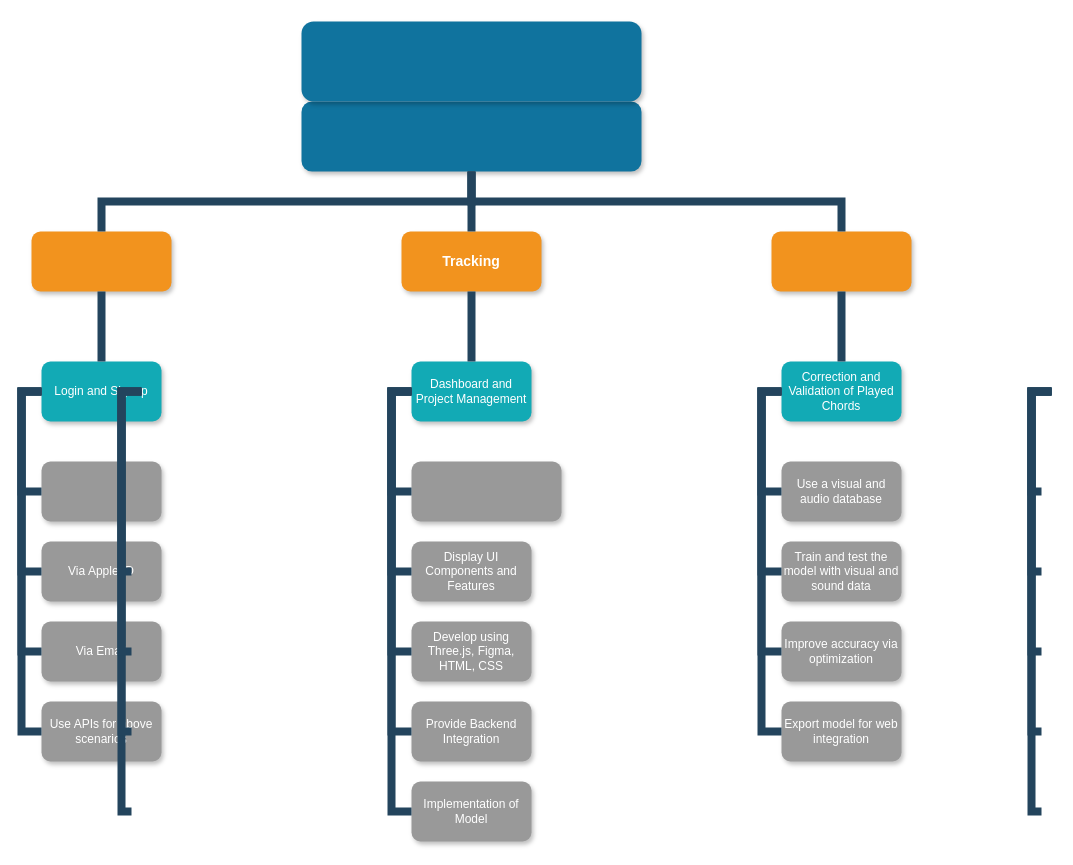
This 1073x865 diagram has some shape labels left out. Each missing label, with the centre of its shape:
Assistive Portal for Learning String Instruments: the point at 472,62
Authorization: the point at 102,262
Chord Management: the point at 842,262
Create a dashboard to track wrongly played and corrected chords: the point at 487,492
Project WBS Diagram: the point at 472,137
Via Google: the point at 102,492
